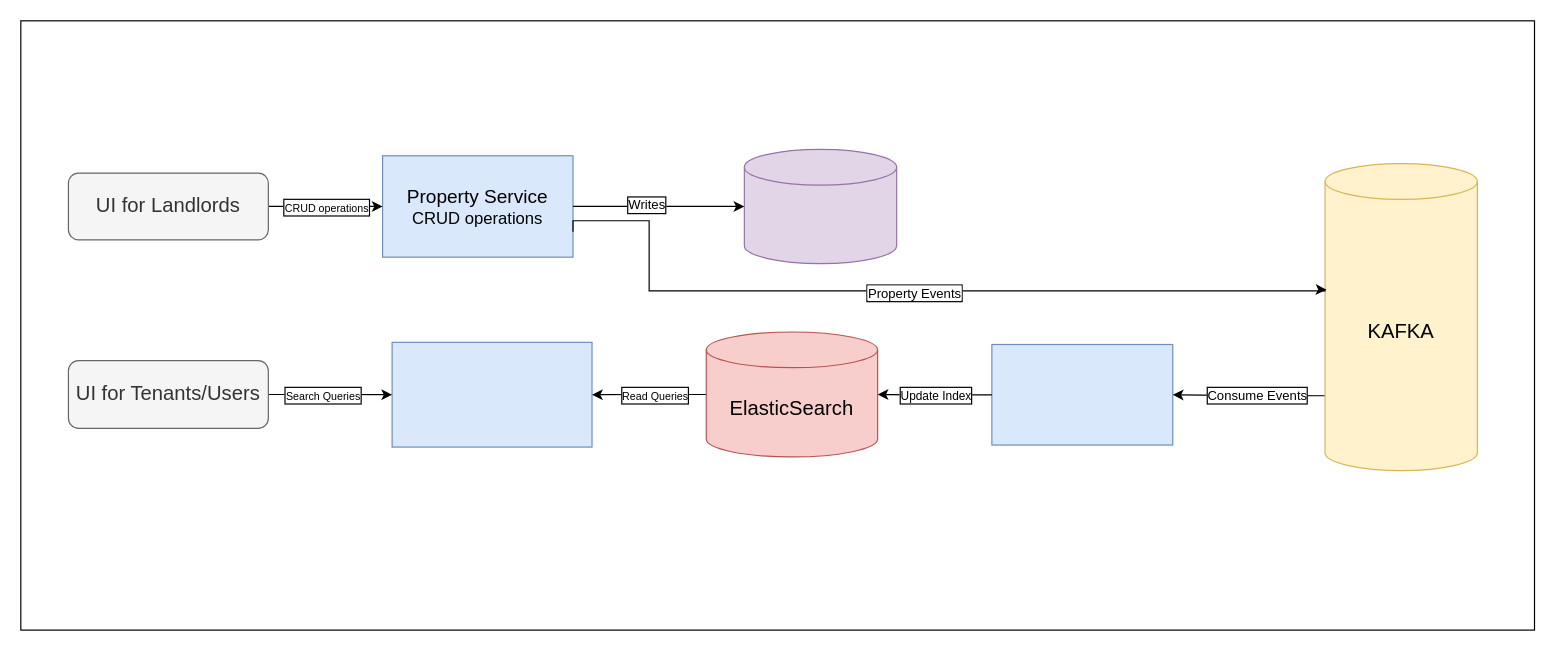
Image size: 1555x651. Some labels were removed from this diagram. The shapes that lost their labels are listed below. From the top down, each one's centre as x and y in pixels, then its label:
At pixel 820 206: "PostgreSQL".
At pixel 491 394: "Search Service".
At pixel 1082 394: "Search Consumer".
